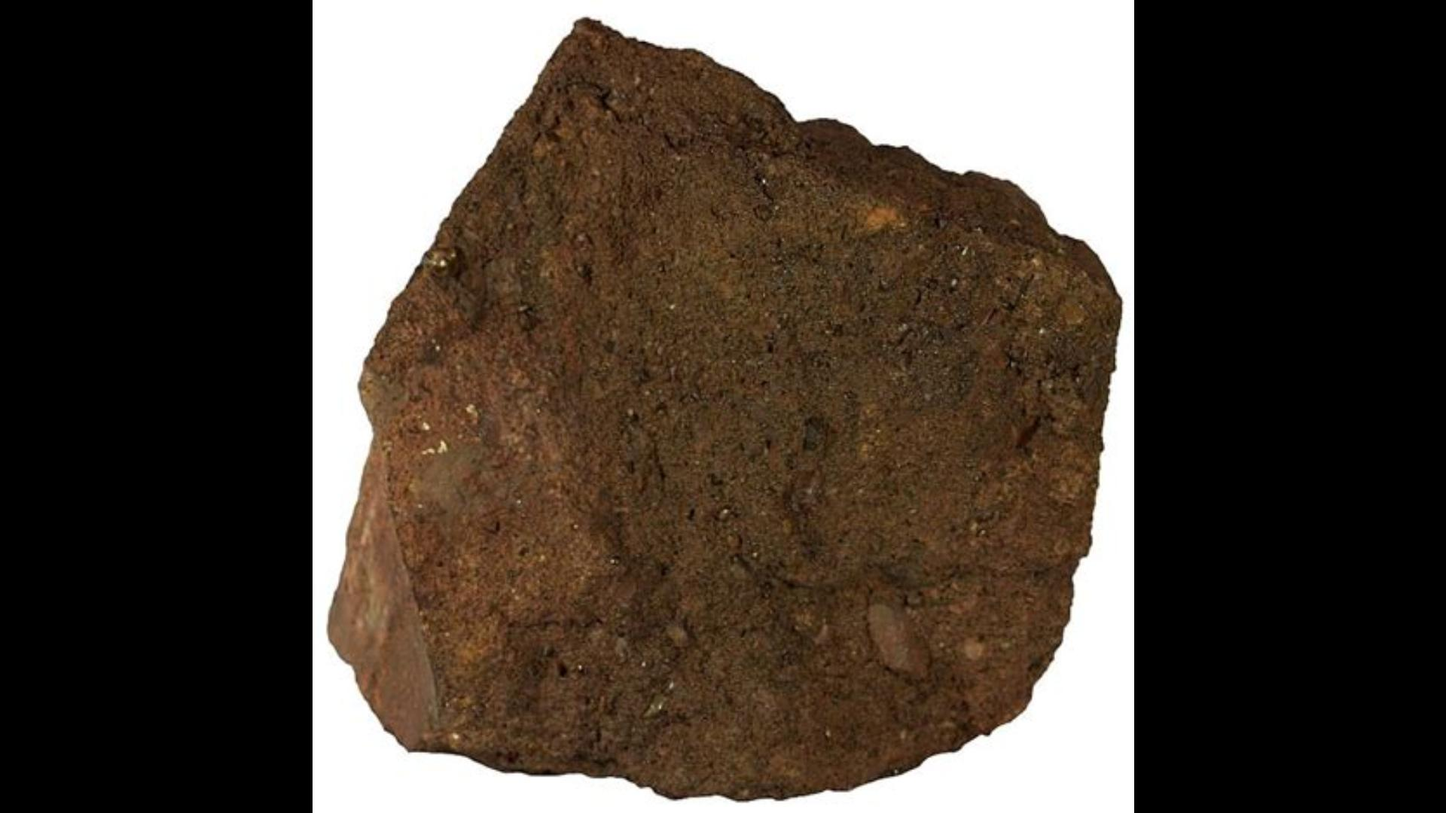rock: (329, 23, 1118, 796)
